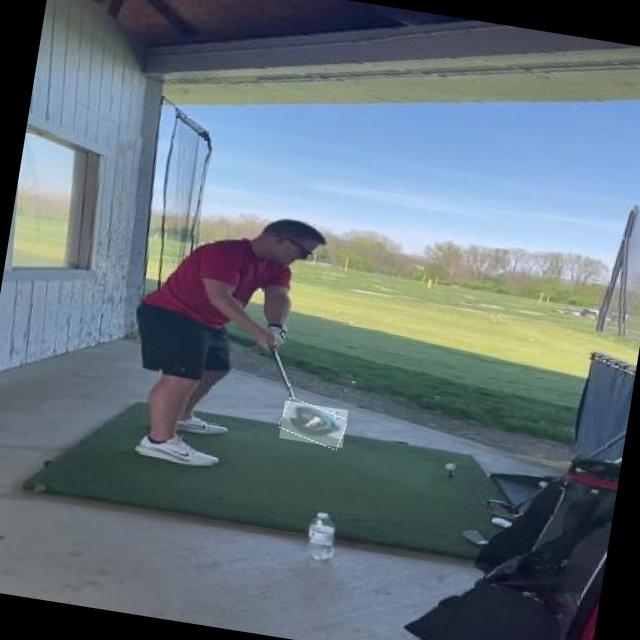club head: (279, 401, 348, 448)
